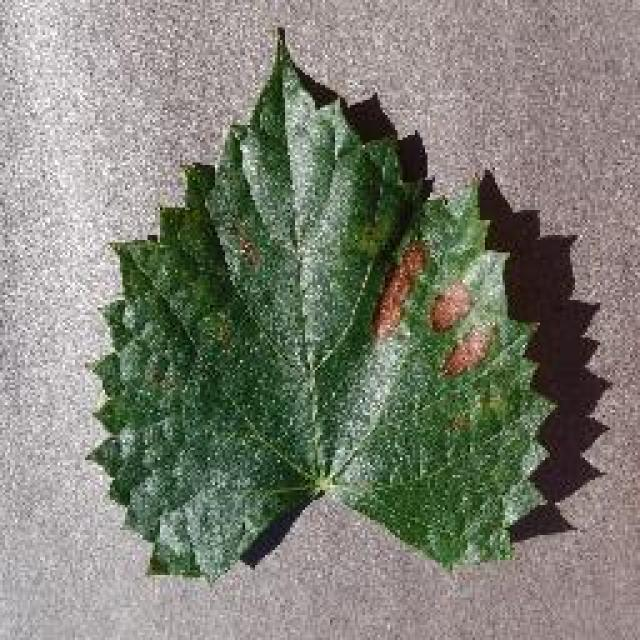Black_Measles: (87, 18, 565, 602)
